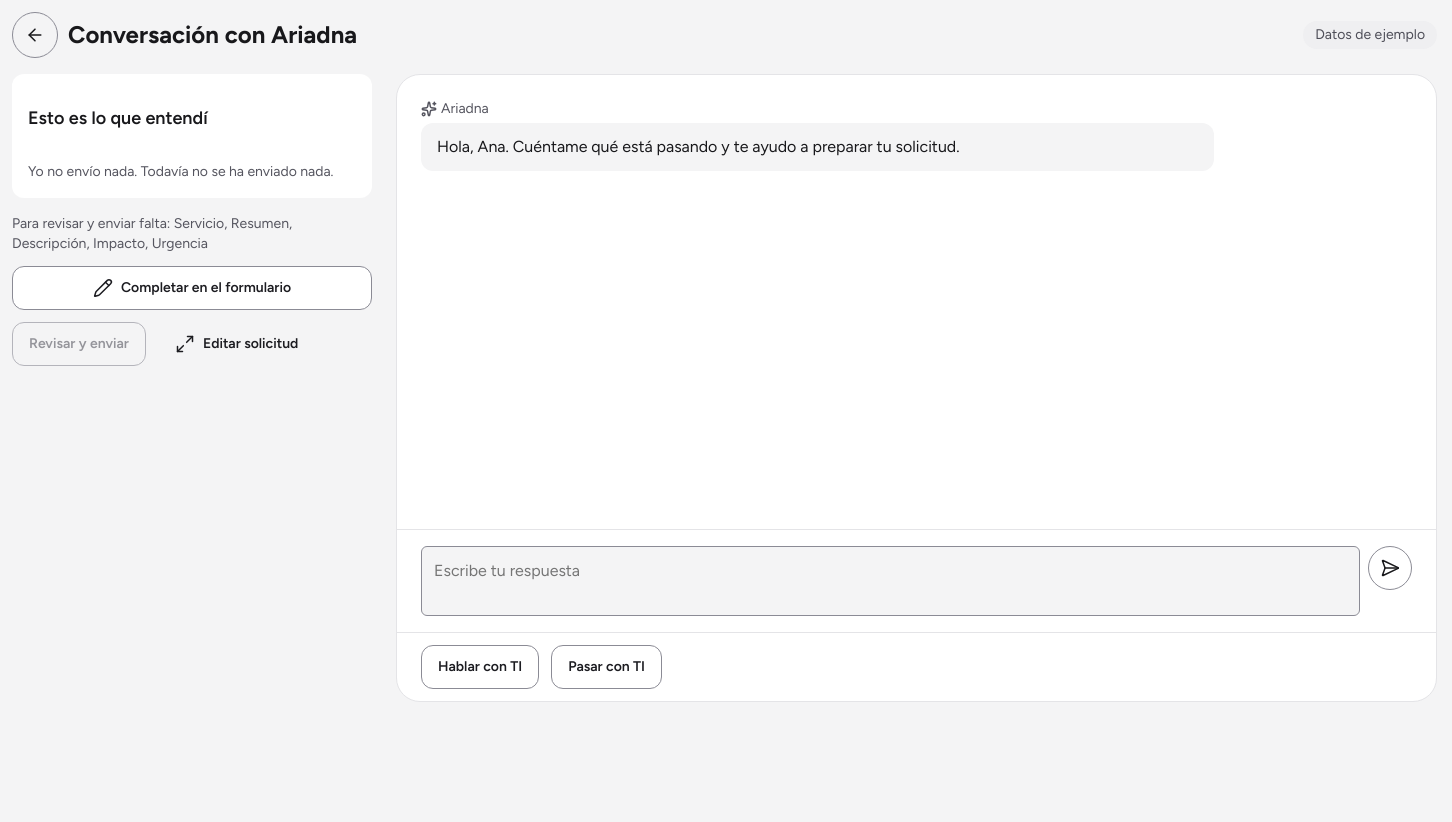
Scenario: ConversationContainer (U6) › S-TS-S3: a complete draft shows no reason and no opener, and only the confirmation step submits
The width and height of the screenshot is (1452, 822).
Type "La impresora no imprime" into the text box named "Tu respuesta para Ariadna" at [890, 581], box [421,546,1360,616]
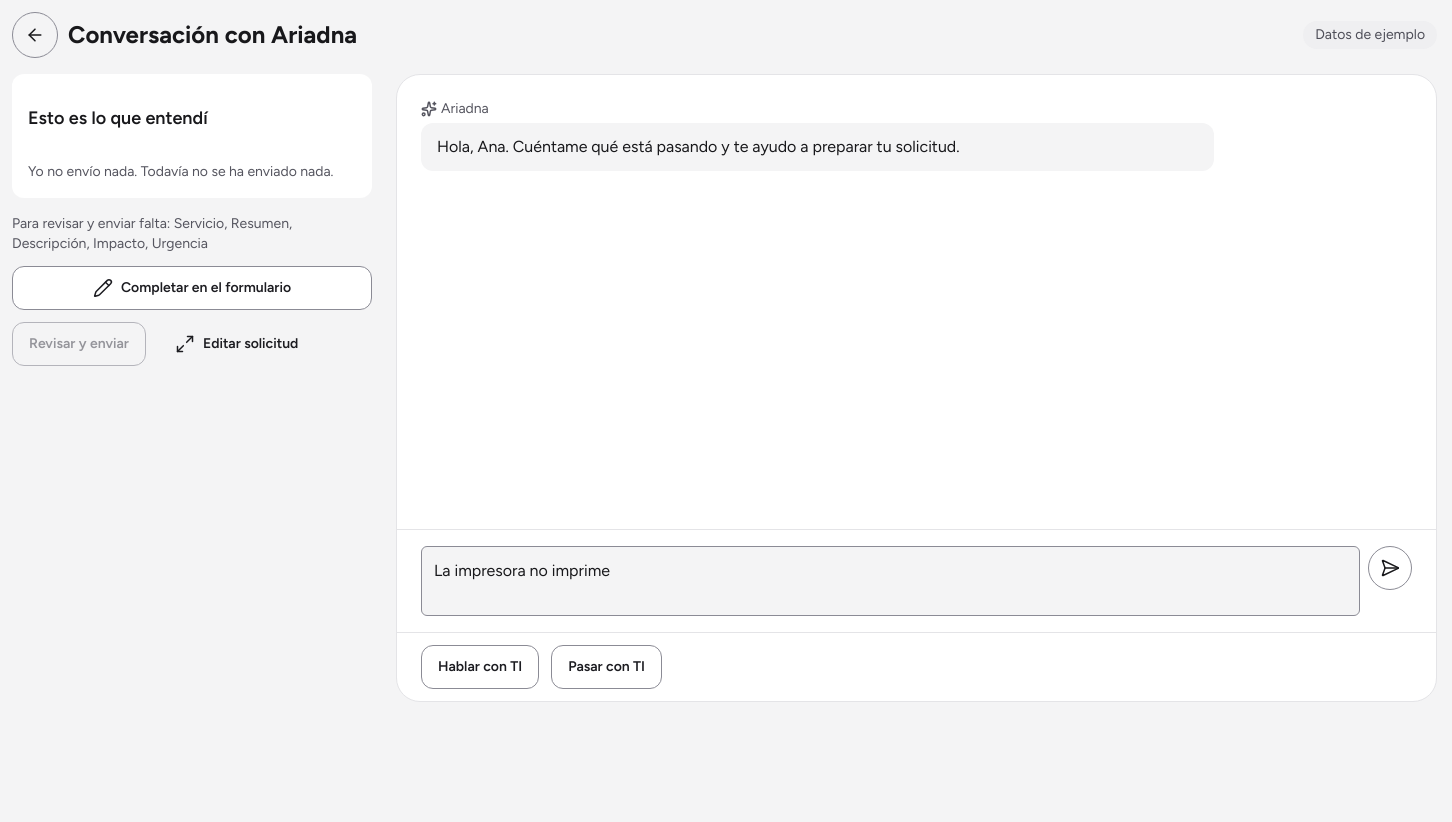
Click the button named "Enviar respuesta a Ariadna" at [1390, 568], box [1368,546,1412,590]
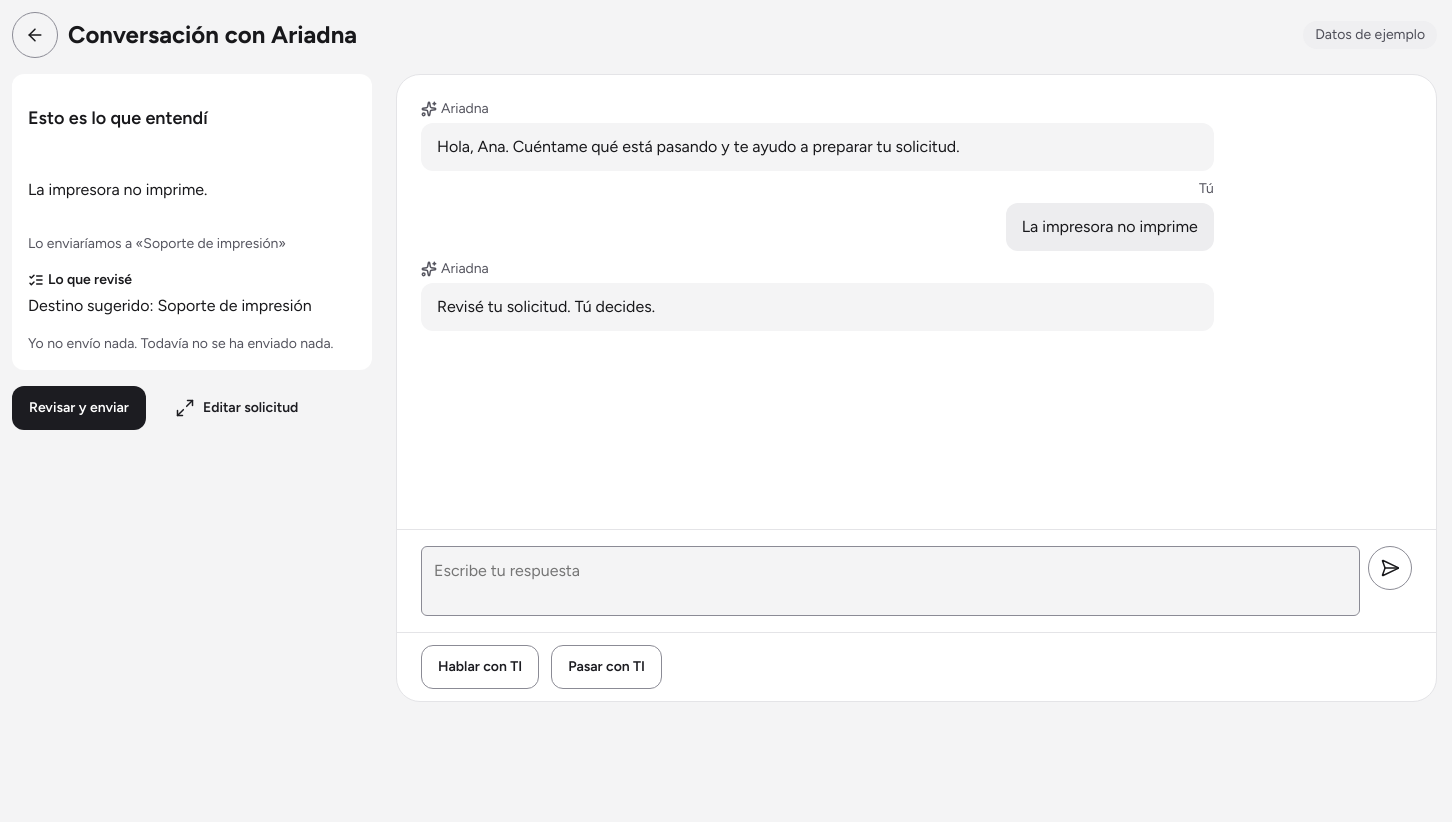
Result: the button "Revisar y enviar" is enabled
Result: the text "Para revisar y enviar falta" is gone
Result: the button "Completar en el formulario" is gone
Click the button "Revisar y enviar" at [79, 408], box [12,386,146,430]
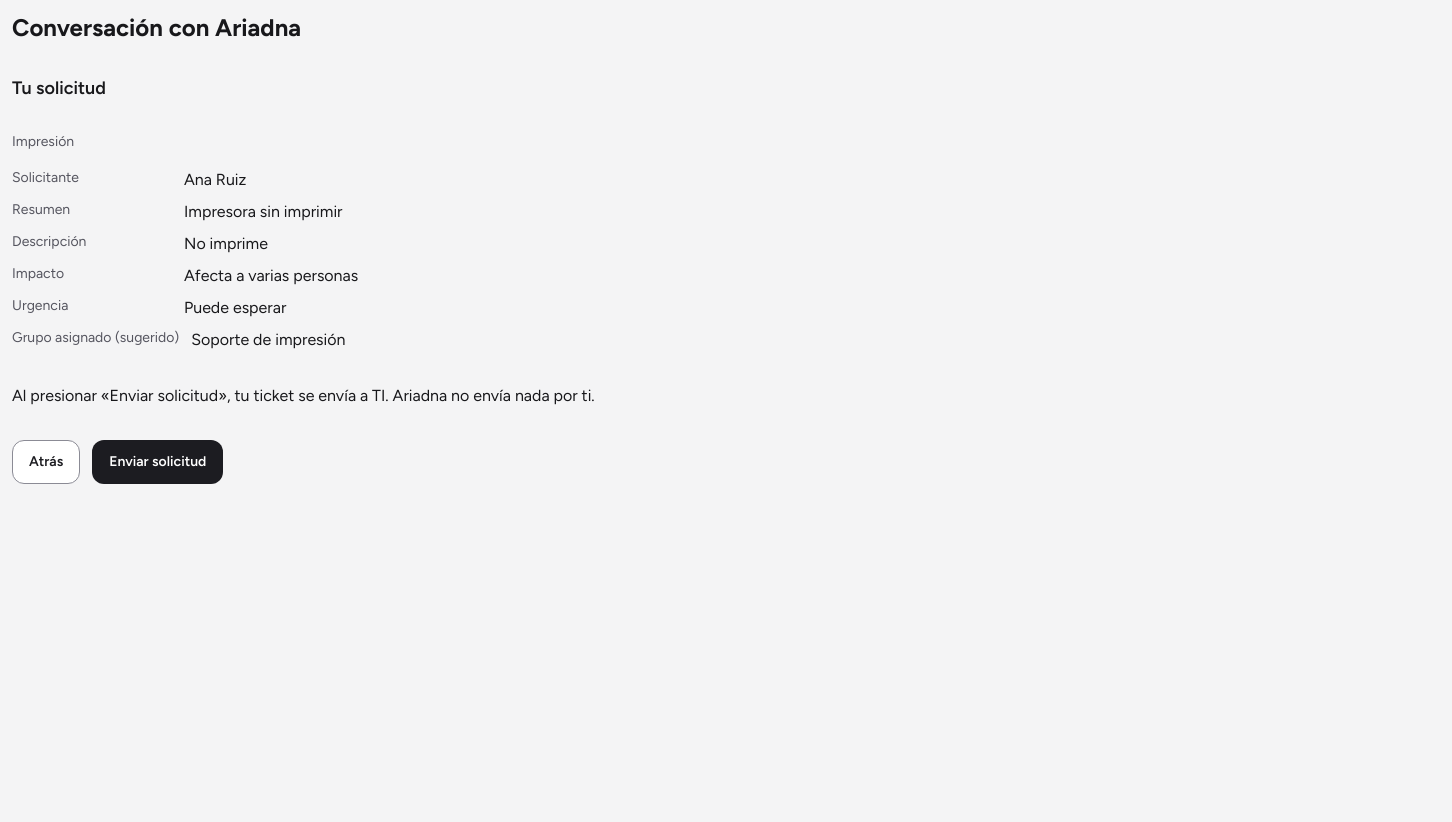
Result: the button "Enviar solicitud" is shown at [92,440,223,484]
